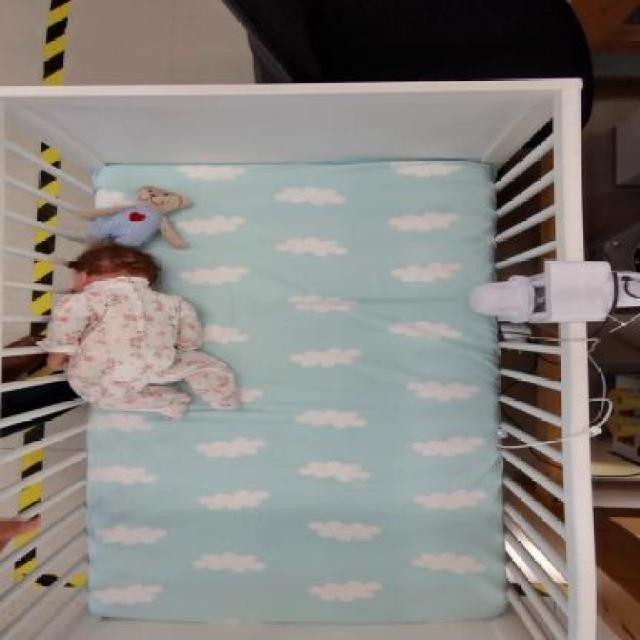baby: (38, 234, 244, 418)
